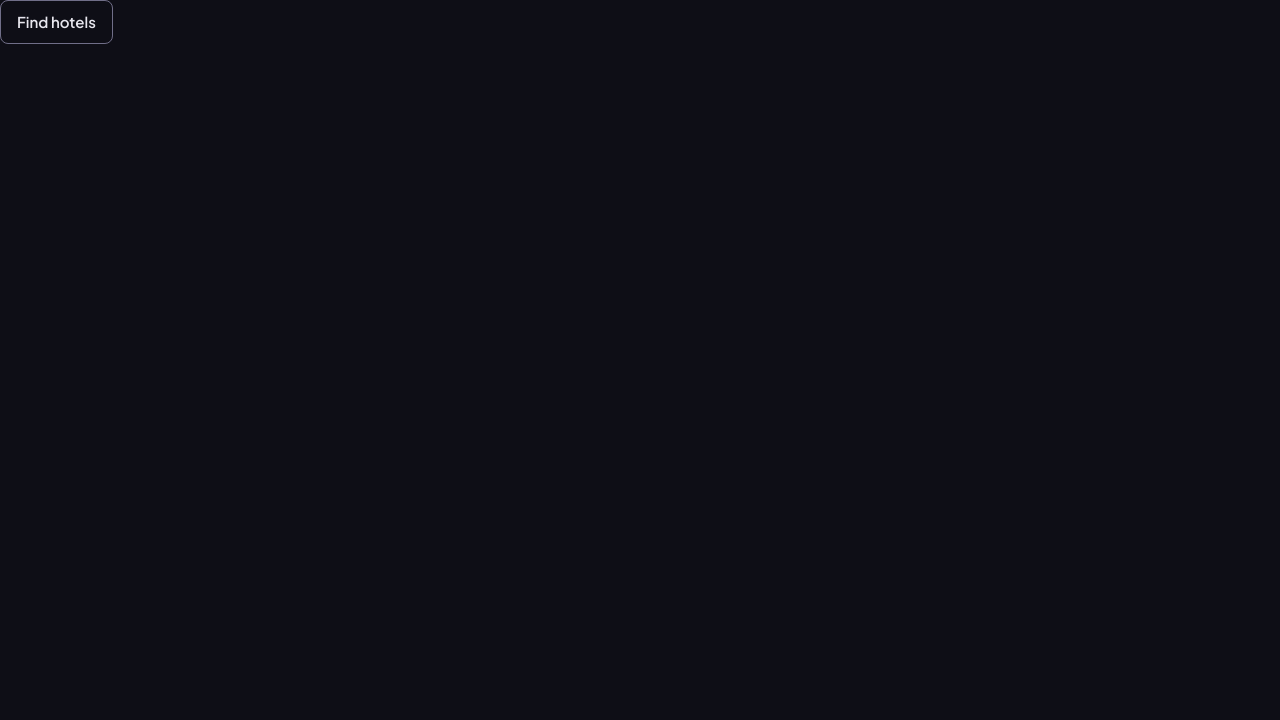
Test: guests and rooms cannot go below 1
Click the button "Find hotels".
click(56, 22)  # box [0, 0, 113, 44]
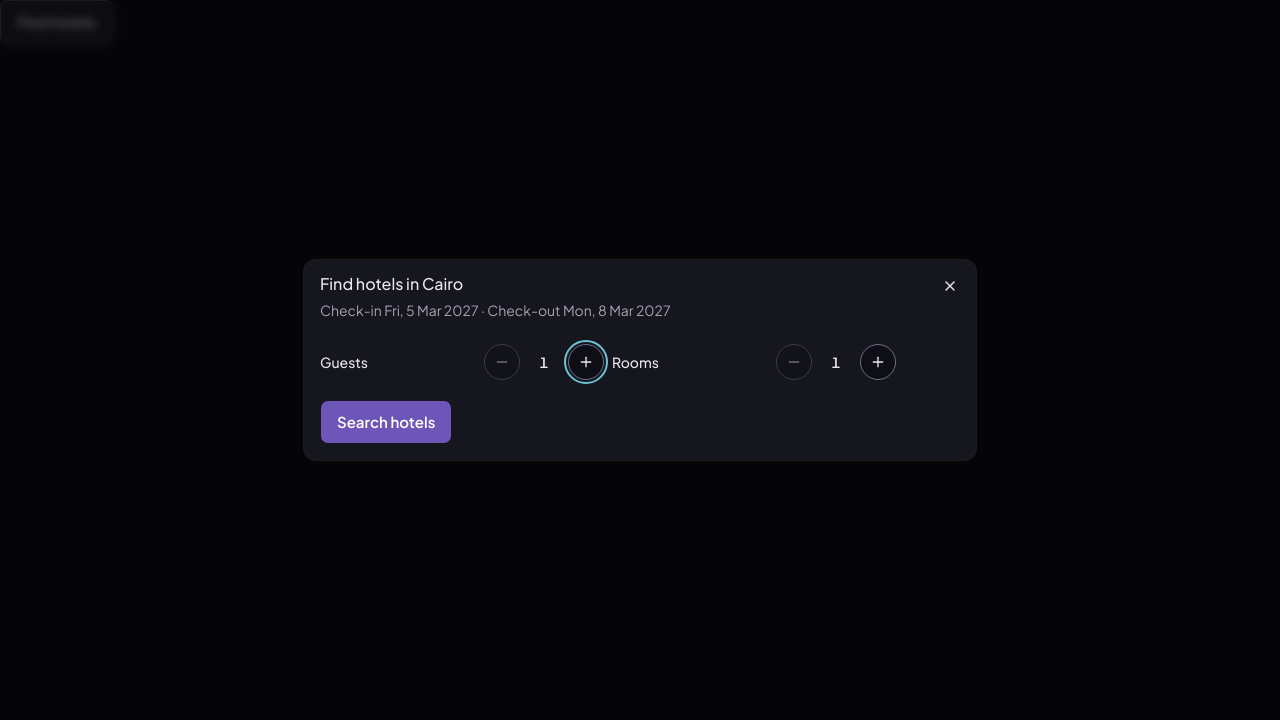
Check: the button named "Fewer guests" is disabled, box [484, 344, 520, 380]
Check: the button named "Fewer rooms" is disabled, box [776, 344, 812, 380]
